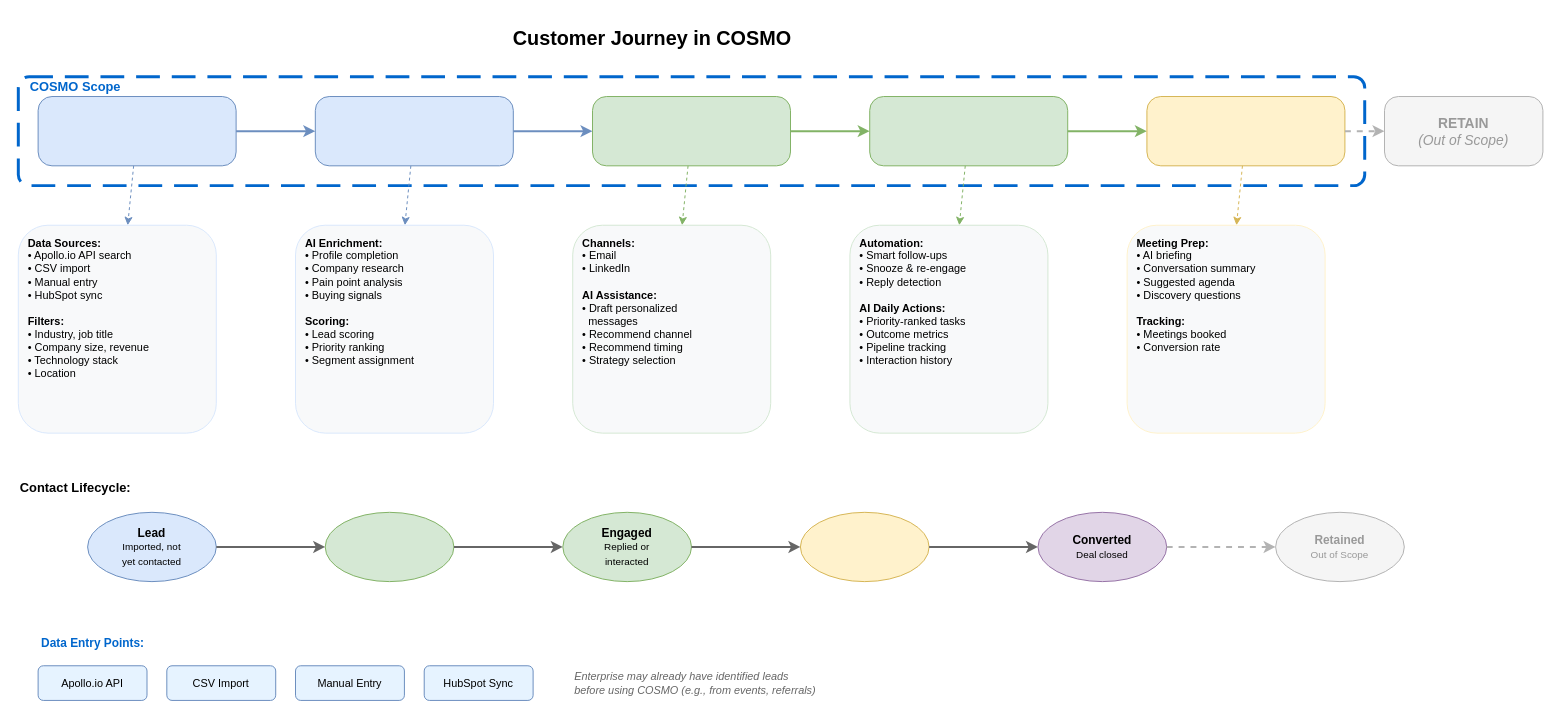
This 1560x718 diagram has some shape labels left out. Each missing label, with the box of its shape:
Contacted First message sent: (324, 511, 454, 582)
CONVERT Book Meeting: (1146, 96, 1345, 166)
IDENTIFY Find & Import Leads: (37, 96, 236, 166)
Meeting Booked Scheduled: (799, 511, 929, 582)
NURTURE Follow-up & Engage: (869, 96, 1068, 166)
OUTREACH Initial Contact: (592, 96, 791, 166)
RESEARCH Enrich & Analyze: (314, 96, 513, 166)
